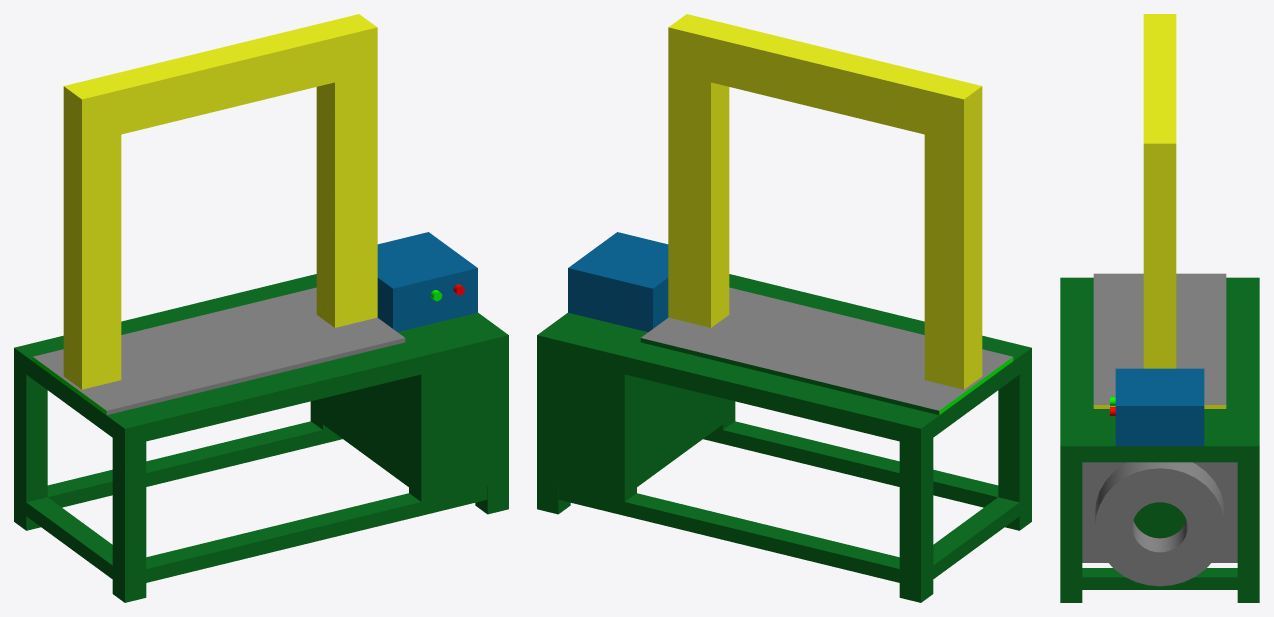
The model's file is packing_machine.fbx.
3 views of the same model, side by side, from view 1: azimuth 30°, elevation 25°; view 2: azimuth 150°, elevation 25°; view 3: azimuth 270°, elevation 25° (orthographic). The views are drawn at different scales.
Parts seen in each view (by area): view 1: Body1; view 2: Body1; view 3: Body1.
Part boxes in pixels (x1=…): Body1: x1=14, y1=14, x2=508, y2=602; Body1: x1=537, y1=14, x2=1031, y2=602; Body1: x1=1060, y1=14, x2=1259, y2=602.
Size of the model in its own units: 1850 by 2100 by 900.
